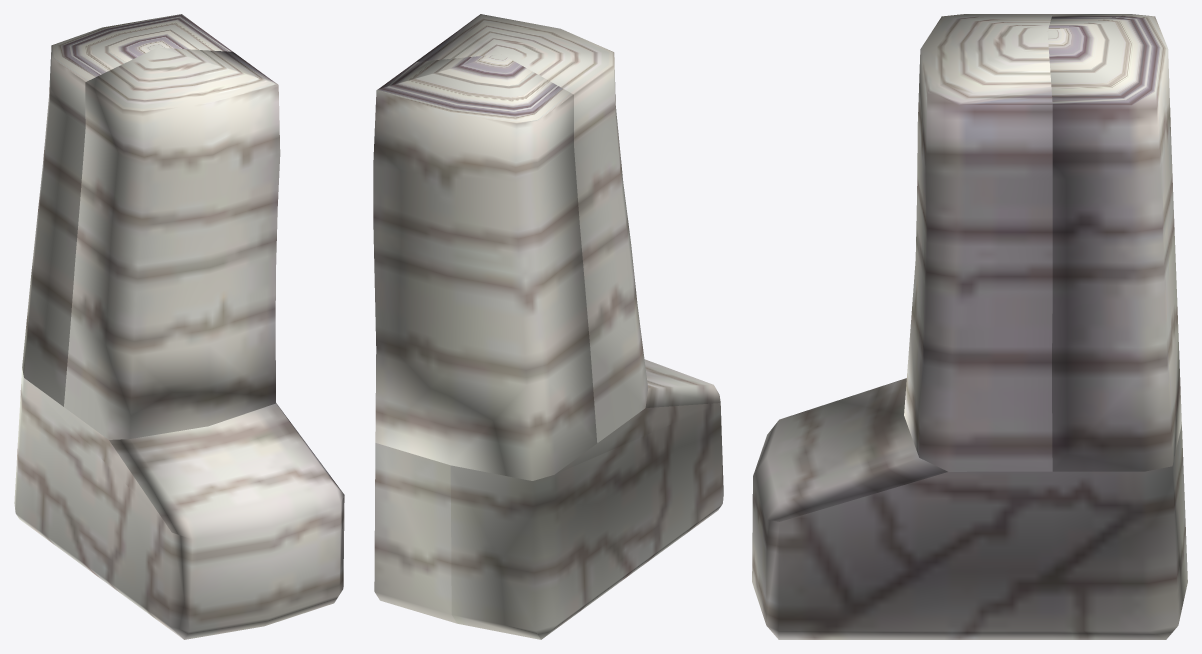
File: right_leg-2_townie_spooky_mel_mummy.blend.obj
The picture shows the model from 3 angles, left to right: view 1: azimuth 30°, elevation 25°; view 2: azimuth 150°, elevation 25°; view 3: azimuth 270°, elevation 25°; orthographic projection. The views are drawn at different scales.
Visible parts, largest first — view 1: right_leg-2_townie_spooky_mel_mummy.blend_defaultobject.002_mesh; view 2: right_leg-2_townie_spooky_mel_mummy.blend_defaultobject.002_mesh; view 3: right_leg-2_townie_spooky_mel_mummy.blend_defaultobject.002_mesh.
Part boxes in pixels (<box>): right_leg-2_townie_spooky_mel_mummy.blend_defaultobject.002_mesh: <box>14,14,344,639</box>; right_leg-2_townie_spooky_mel_mummy.blend_defaultobject.002_mesh: <box>373,14,723,639</box>; right_leg-2_townie_spooky_mel_mummy.blend_defaultobject.002_mesh: <box>752,14,1187,639</box>.
Size of the model in its own units: 0.2244 by 0.5978 by 0.4123.
1 material, 1 textured.
